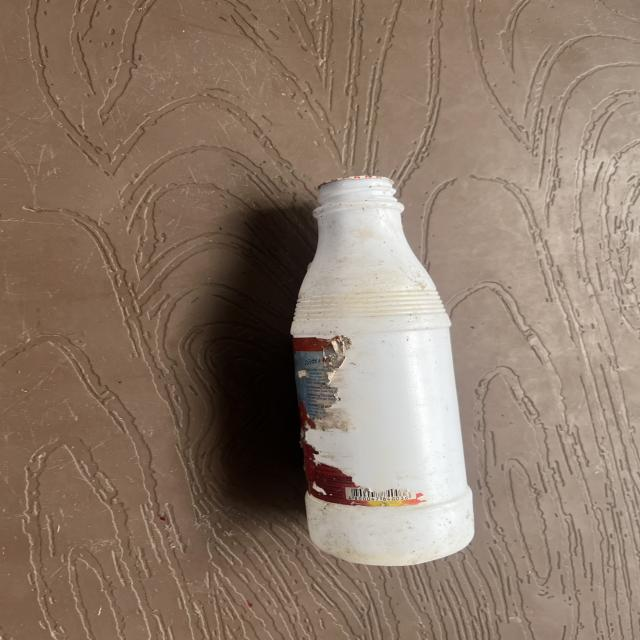REJECT: (296, 179, 590, 570)
